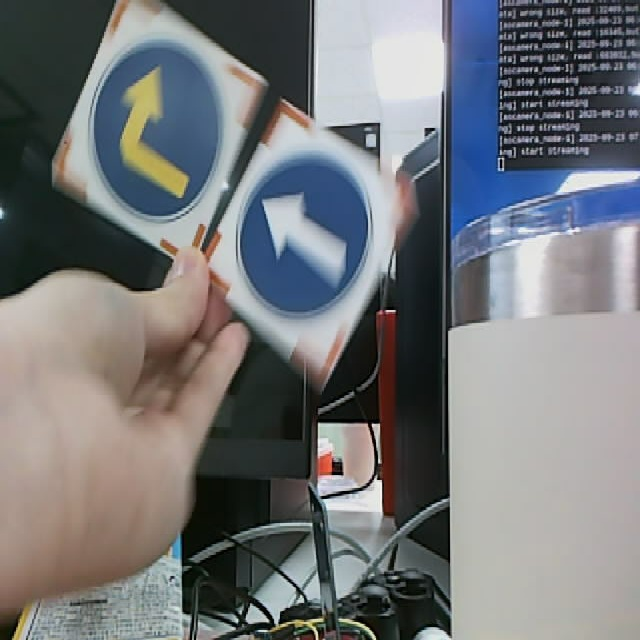right: (48, 2, 255, 249)
straight: (213, 108, 413, 376)
